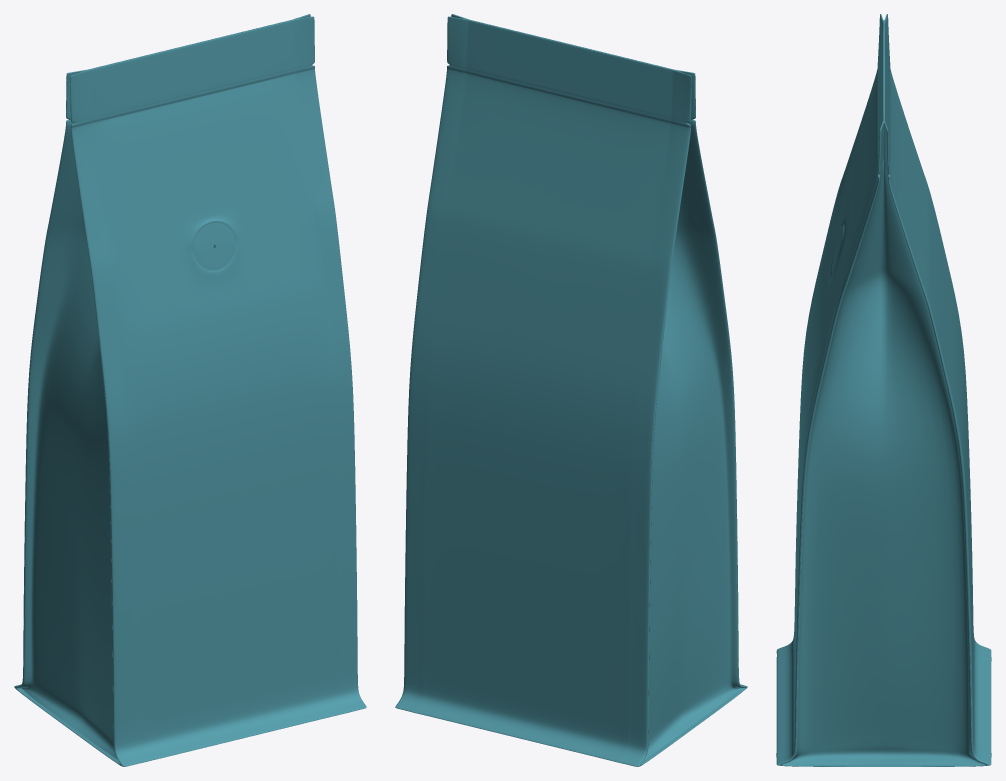
Rendered from coffee-bag.glb.
The picture shows the model from 3 angles, left to right: view 1: azimuth 30°, elevation 25°; view 2: azimuth 150°, elevation 25°; view 3: azimuth 270°, elevation 25°; orthographic projection. The views are drawn at different scales.
Visible parts, largest first — view 1: Coffee Bag 06; view 2: Coffee Bag 06; view 3: Coffee Bag 06.
Boxes of the visible parts, x1,y1,x2,y2 form: Coffee Bag 06: (14,14,366,766); Coffee Bag 06: (395,14,747,766); Coffee Bag 06: (776,14,991,766).
Size of the model in its own units: 0.7873 by 2.02 by 0.6177.
